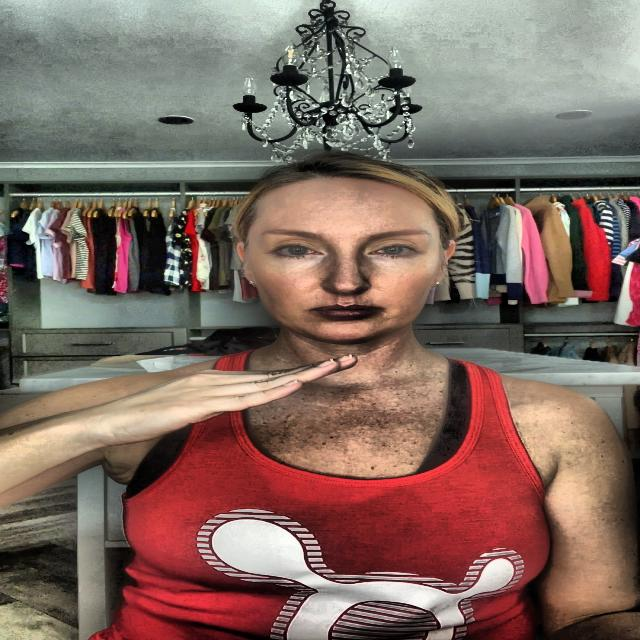not-gloved: (85, 356, 357, 441)
